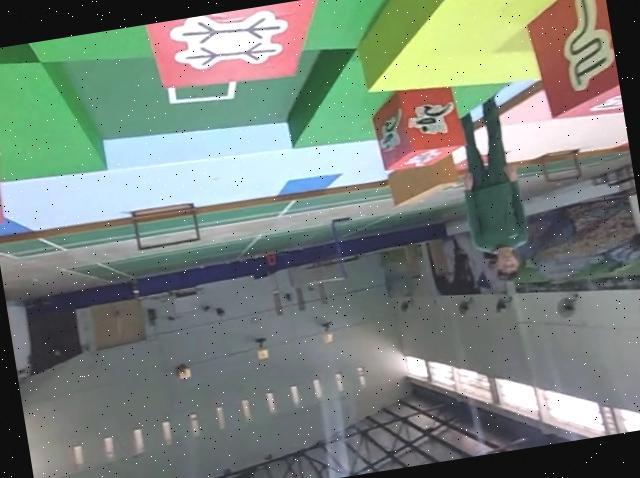R1: (367, 80, 471, 178), (0, 115, 10, 229)
R2 Fake: (514, 0, 624, 129)
R2 Real: (141, 0, 339, 103)
